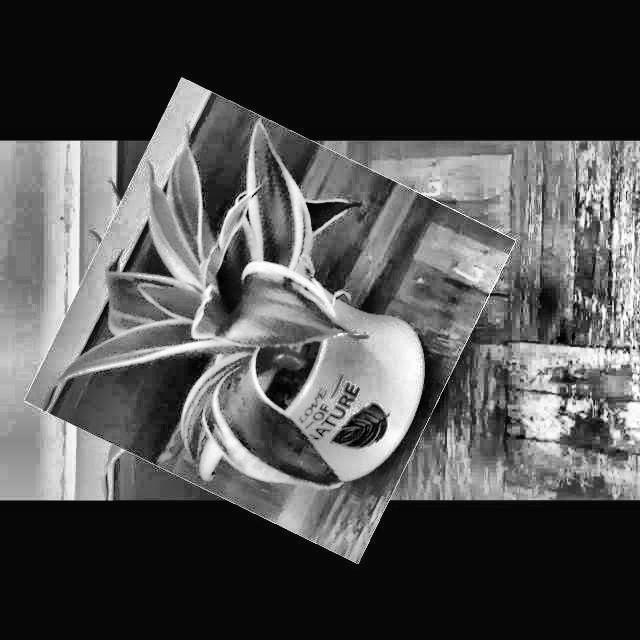plants: (54, 109, 486, 532)
